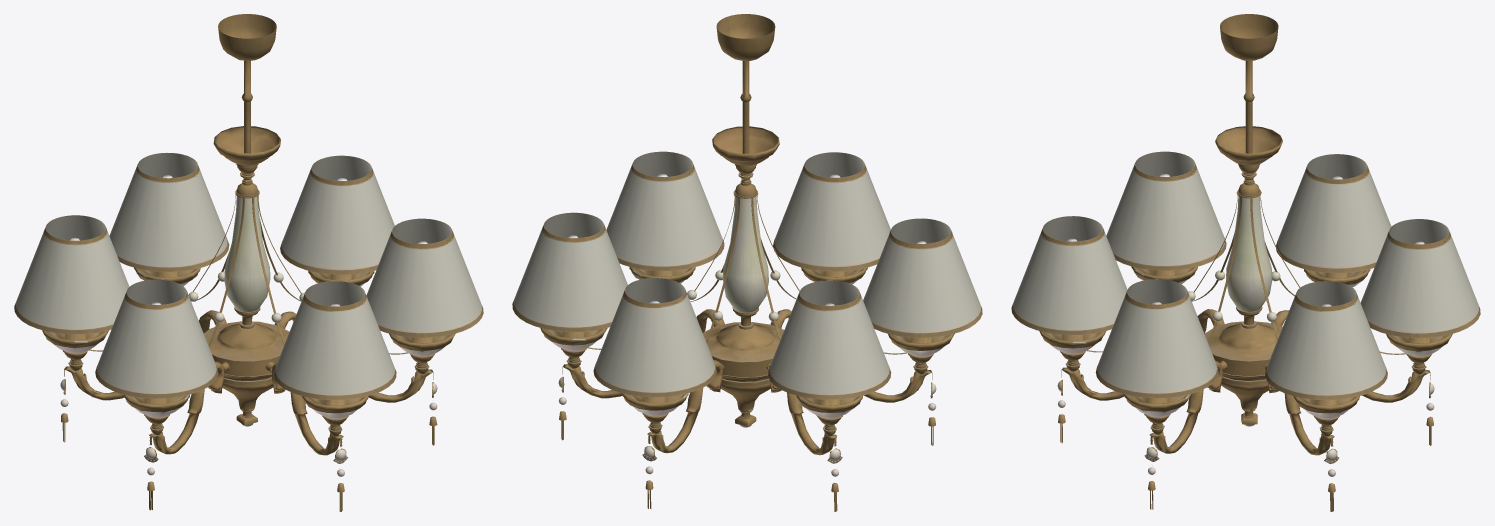
Rendered from Chandelier_01.glb.
The picture shows the model from 3 angles, left to right: view 1: azimuth 30°, elevation 25°; view 2: azimuth 150°, elevation 25°; view 3: azimuth 270°, elevation 25°; orthographic projection.
Parts seen in each view (by area): view 1: Chandelier_01; view 2: Chandelier_01; view 3: Chandelier_01.
Part boxes in pixels (box(x1,y1,x2,y2)): Chandelier_01: box(14, 14, 483, 511); Chandelier_01: box(512, 14, 982, 511); Chandelier_01: box(1011, 14, 1480, 511).
Size of the model in its own units: 0.7465 by 0.7983 by 0.8155.
2 materials, 1 textured.
